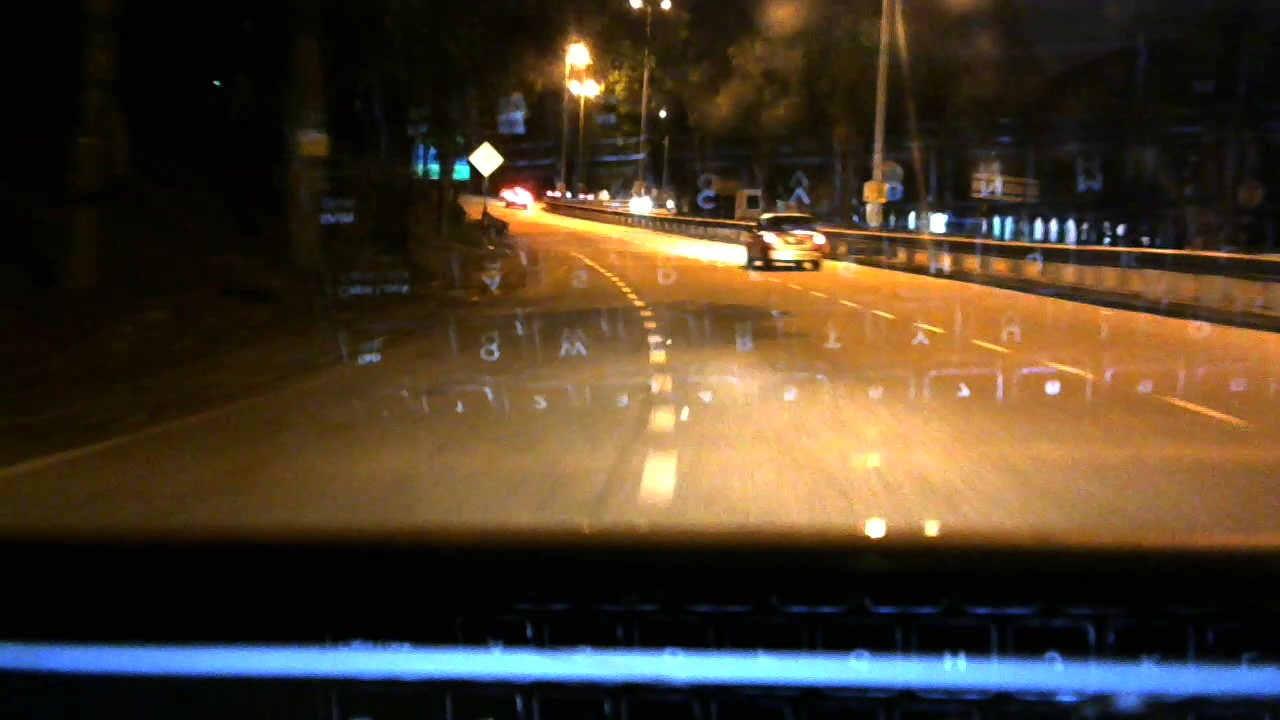Car: (738, 204, 836, 268), (625, 187, 666, 217), (499, 186, 539, 210)
